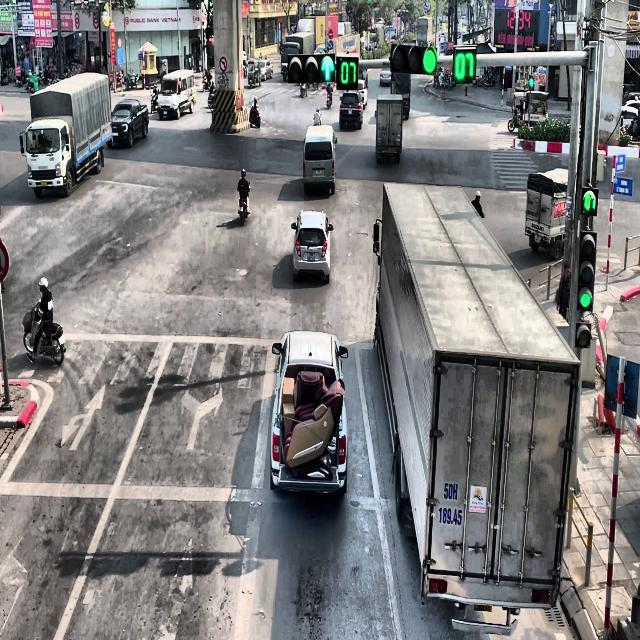CAR: (270, 330, 348, 496), (291, 210, 333, 284), (107, 98, 149, 148), (339, 91, 363, 131), (379, 69, 392, 86)
MOTORBIKE: (23, 303, 66, 365), (238, 183, 250, 226), (508, 104, 522, 132), (248, 102, 260, 128), (150, 86, 159, 114), (207, 88, 215, 110), (313, 107, 321, 126), (326, 89, 333, 108), (300, 81, 308, 97)
TRAFFIC_LIGHT: (576, 229, 597, 312), (389, 42, 438, 74), (452, 44, 477, 82), (336, 54, 359, 89), (580, 186, 598, 216), (320, 54, 336, 82), (528, 74, 534, 90)
TRUCK: (373, 180, 582, 628), (19, 71, 113, 198), (525, 166, 568, 260)
